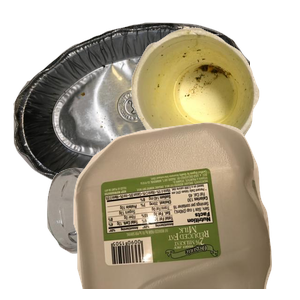glass: (44, 165, 178, 300)
metal: (11, 20, 251, 200)
plastic: (71, 120, 300, 300)
trash: (129, 25, 300, 173)
